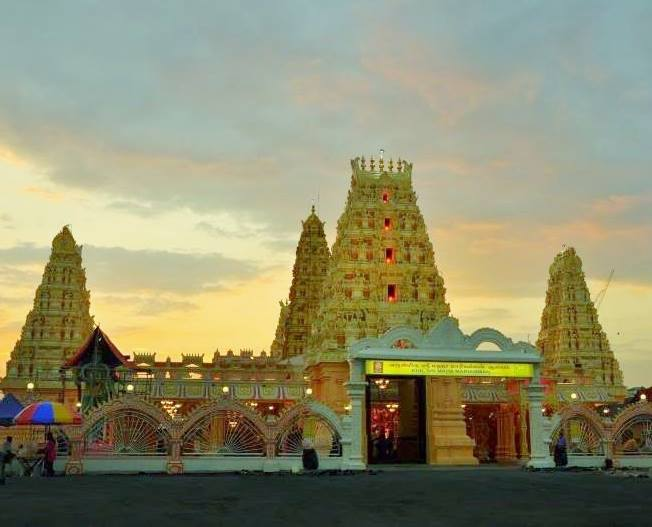Hindu Temple: (23, 139, 624, 470)
